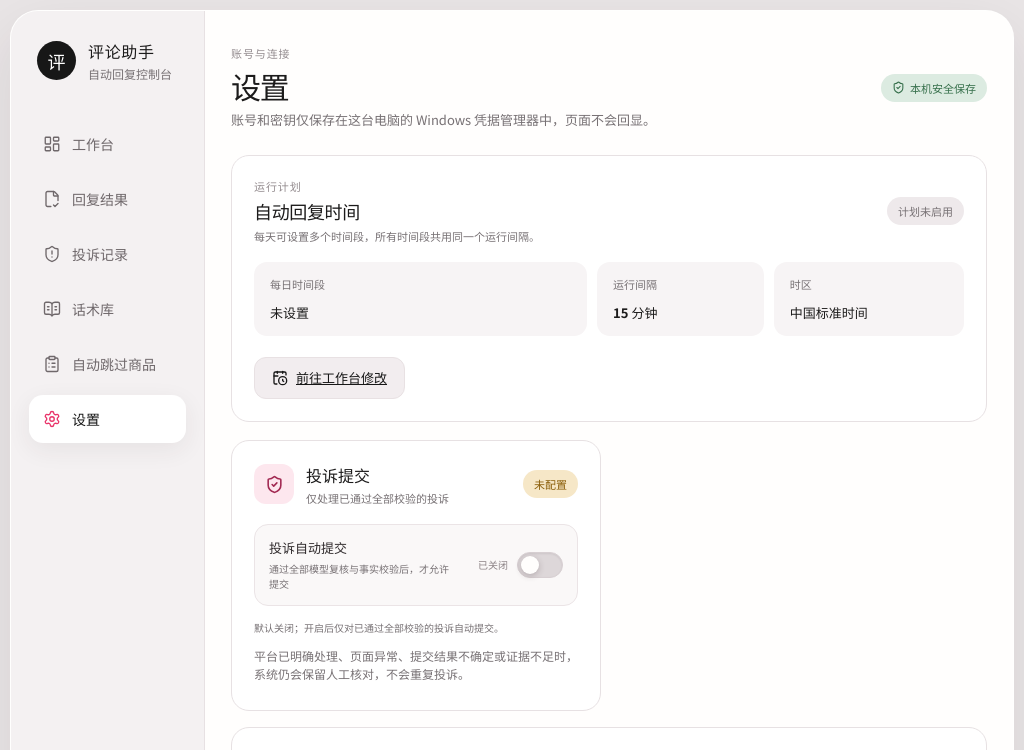
merchant console › keeps complaint auto-submit opt-in and saves an explicit change
Expected: the element with test id "complaint-auto-submit-control" shows "已关闭", top-left (478, 557), bottom-right (508, 572)
Expected: the text "默认关闭；开启后仅对已通过全部校验的投诉自动提交。" is shown, top-left (254, 620), bottom-right (504, 635)
Click the checkbox named "投诉自动提交". click: (540, 565)
box: top-left (517, 552), bottom-right (563, 578)
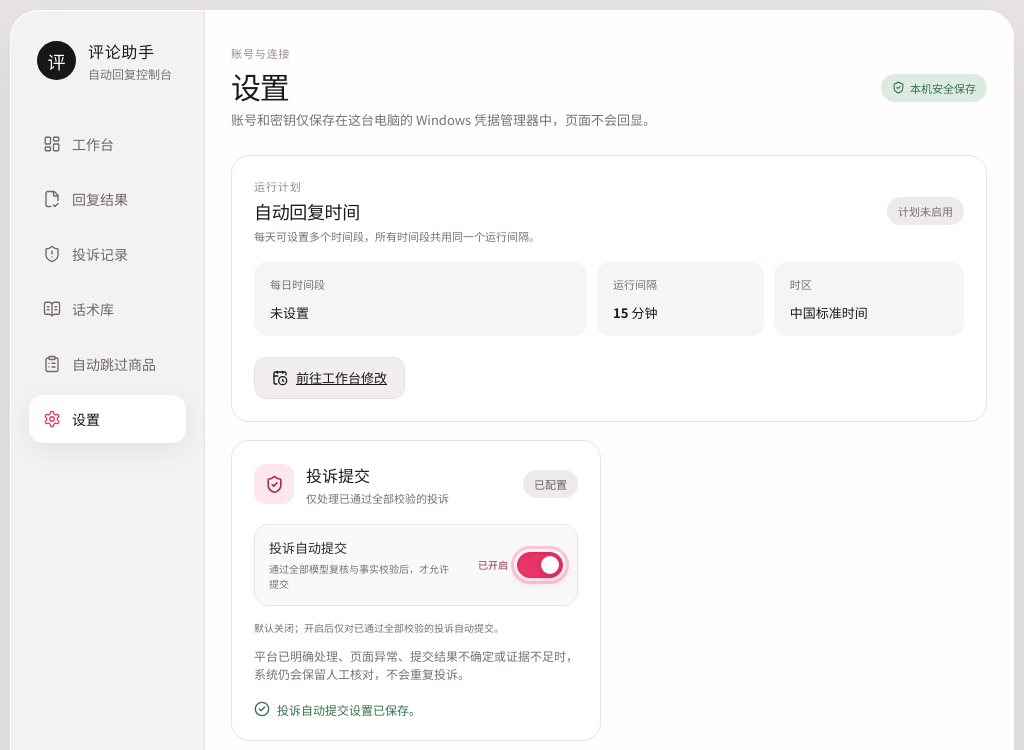
Expected: the element with test id "complaint-auto-submit-control" shows "已开启", top-left (478, 557), bottom-right (508, 572)
